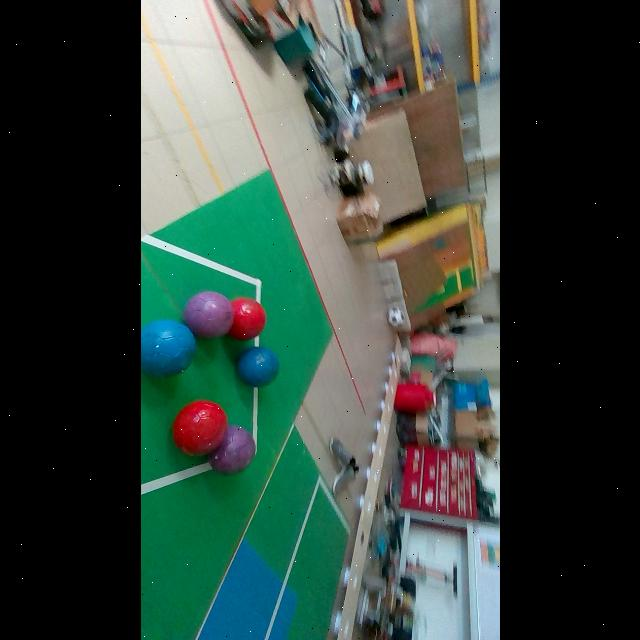B: (140, 319, 195, 378), (237, 347, 278, 387)
P: (184, 291, 234, 338), (208, 425, 255, 475)
R: (173, 401, 227, 455), (228, 298, 266, 341)
